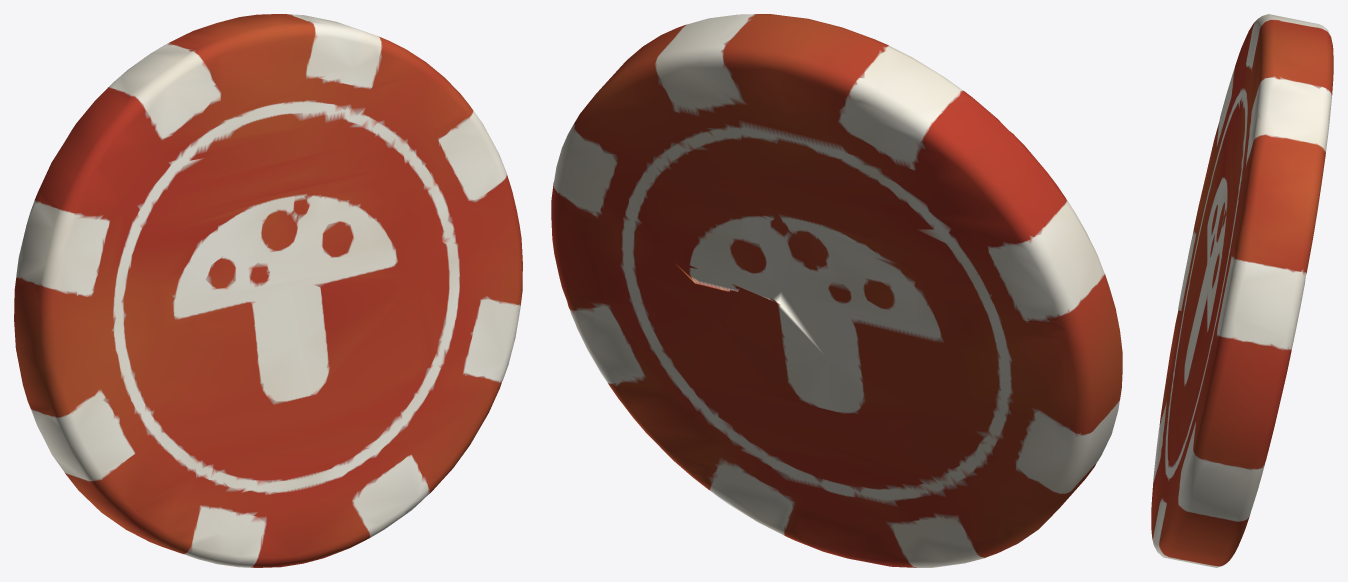
Rendered from poker-chip-rolling.glb.
3 views of the same model, side by side, from view 1: azimuth 30°, elevation 25°; view 2: azimuth 150°, elevation 25°; view 3: azimuth 270°, elevation 25° (orthographic). The views are drawn at different scales.
Visible parts, largest first — view 1: poker_chip_red; view 2: poker_chip_red; view 3: poker_chip_red.
Part boxes in pixels (left/top/right/bottom): poker_chip_red: left=14, top=14, right=522, bottom=567; poker_chip_red: left=551, top=14, right=1122, bottom=567; poker_chip_red: left=1151, top=14, right=1333, bottom=567.
Bounding box in the file's own units: 2.4 × 2.39 × 0.7904.
